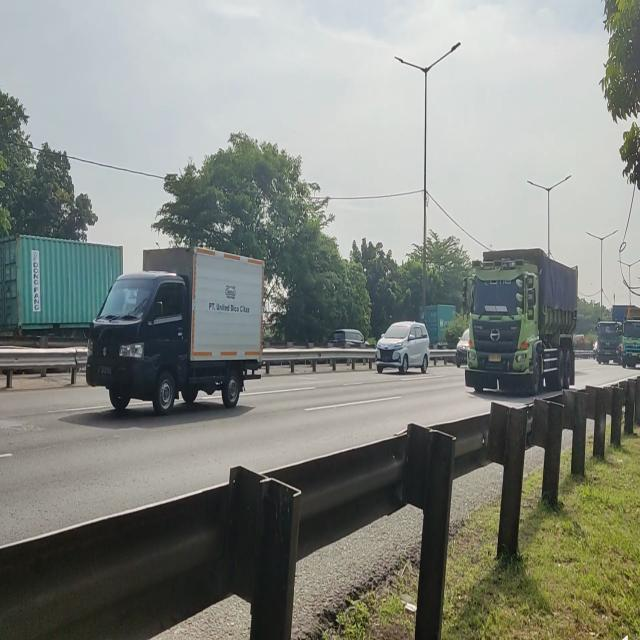Golongan I: (84, 233, 267, 427), (372, 303, 430, 380)
